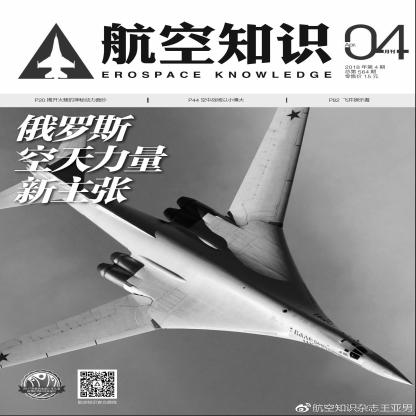Tu160: (1, 108, 416, 387)
